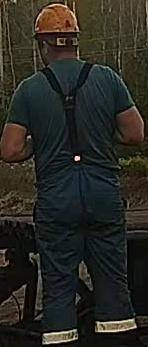helmet: (33, 2, 80, 43)
